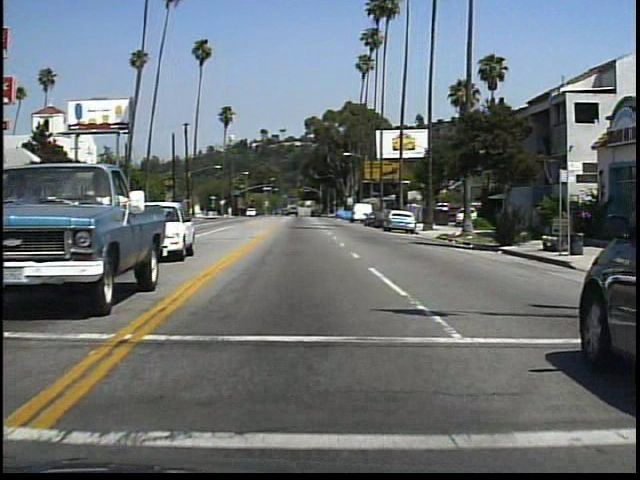person: (507, 198, 531, 250)
